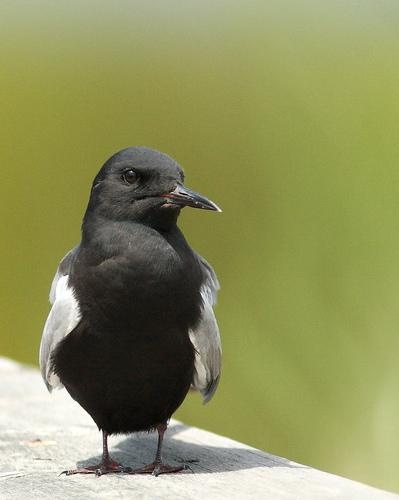bird: (32, 144, 227, 478)
